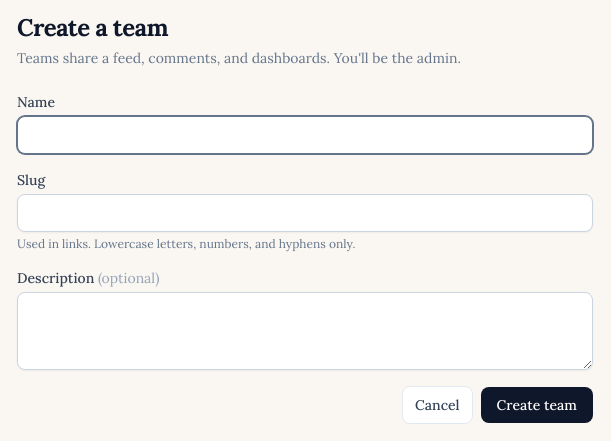
NewTeamPage › auto-derives slug from name
Type "My Awesome Team" into the field labelled "Name" at (305,135), box [17,116,593,154]
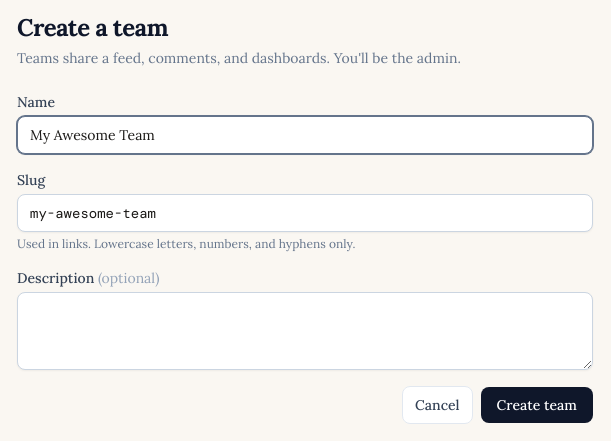
Expected: the field labelled "Slug" holds "my-awesome-team", [17,194,593,232]
